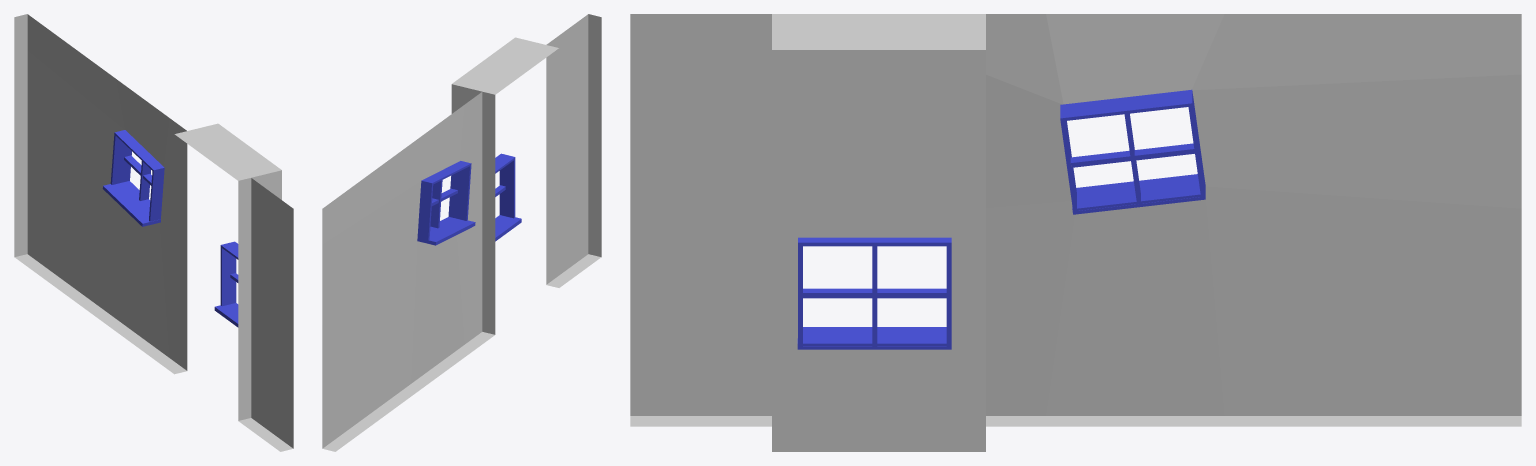
Rendered from WallWithWindows.glb.
3 renders of one model, left to right at view 1: azimuth 30°, elevation 25°; view 2: azimuth 150°, elevation 25°; view 3: azimuth 270°, elevation 25°, orthographic. The views are drawn at different scales.
Parts seen in each view (by area): view 1: Wall, Window(Asset).002, Window(Asset).001; view 2: Wall, Window(Asset).002, Window(Asset).001; view 3: Wall, Window(Asset).002, Window(Asset).001.
Boxes of the visible parts, bbox=[...] form: Wall: bbox=[14, 14, 293, 451]; Window(Asset).002: bbox=[102, 130, 164, 226]; Window(Asset).001: bbox=[214, 241, 238, 327]; Wall: bbox=[322, 14, 601, 451]; Window(Asset).002: bbox=[417, 161, 475, 245]; Window(Asset).001: bbox=[495, 153, 521, 241]; Wall: bbox=[630, 14, 1521, 451]; Window(Asset).002: bbox=[1060, 89, 1205, 214]; Window(Asset).001: bbox=[797, 237, 951, 349].
Size of the model in its own units: 1.84 by 7.52 by 15.1.
